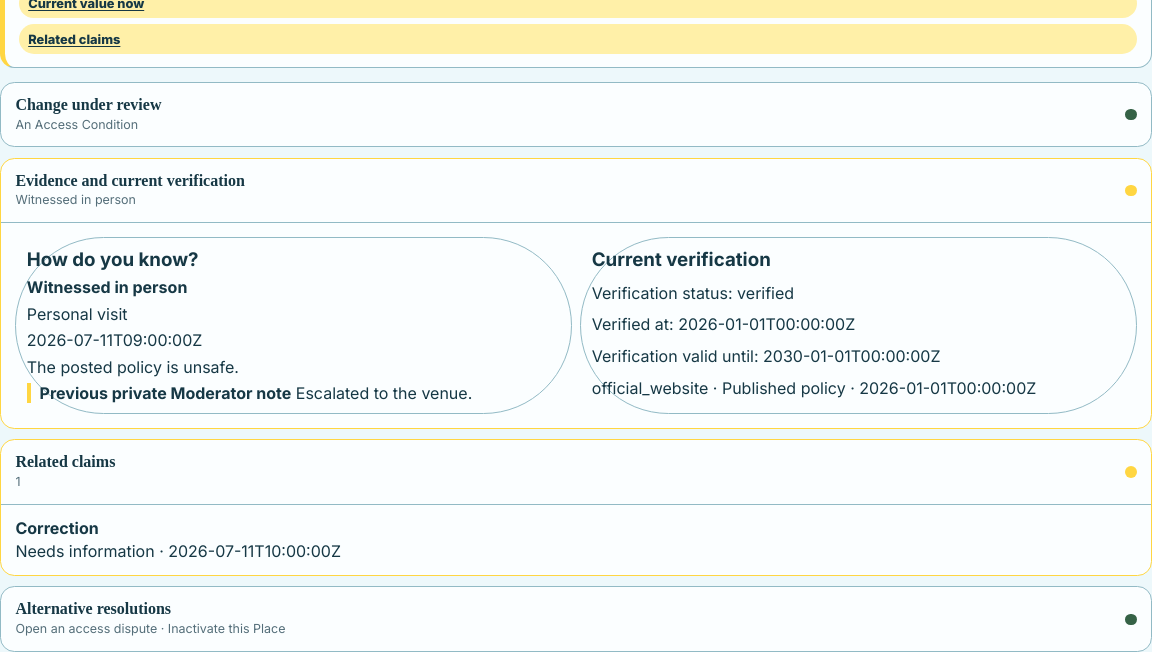
Test: CorrectionReviewPanel › saves dispute and transition details through independent section forms
(page scrolled)
Click the heading that starts with "Alternative resolutions" at coordinates (93, 609), box top-left (15, 600), bottom-right (1137, 636)
(page scrolled)
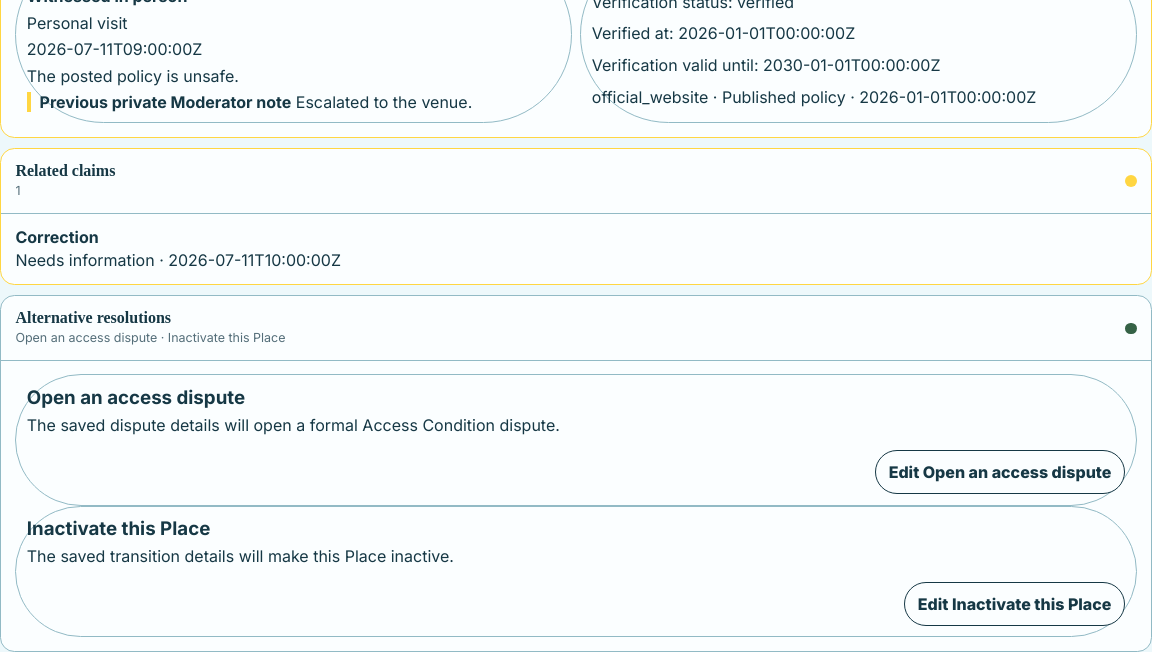
Click the button "Edit Open an access dispute" at coordinates (1000, 472), box top-left (875, 450), bottom-right (1125, 494)
(page scrolled)
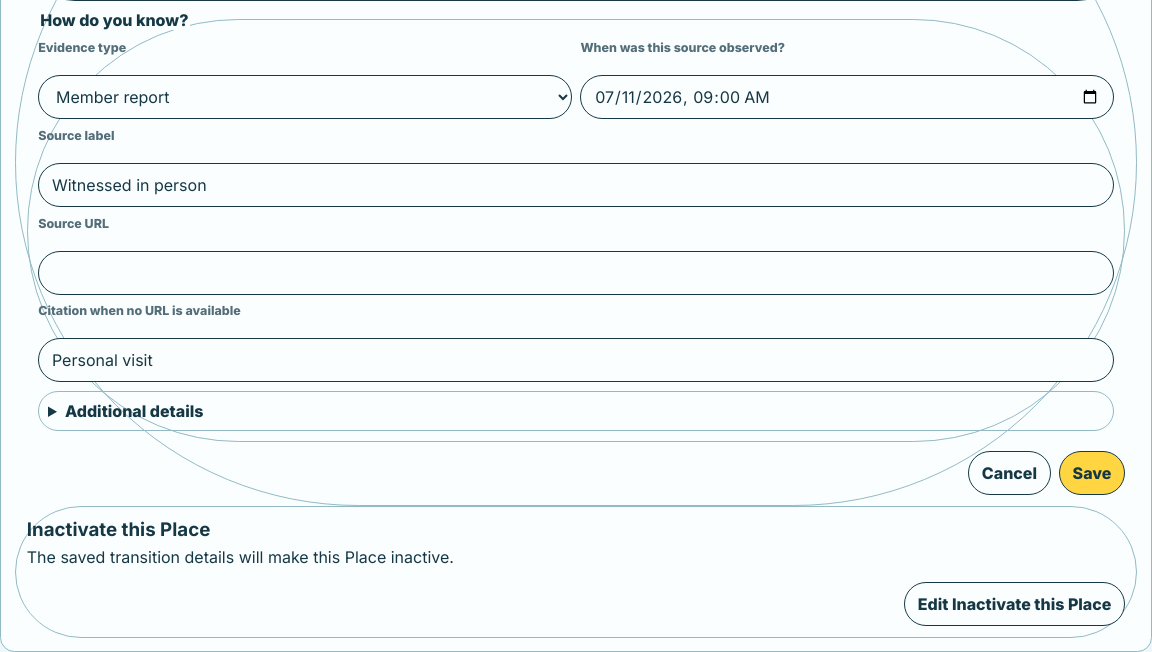
Now the field named "evidenceSourceLabel" is shown, box top-left (38, 163), bottom-right (1114, 207)
Click the button "Edit Inactivate this Place" at coordinates (1015, 604), box top-left (904, 582), bottom-right (1125, 626)
(page scrolled)
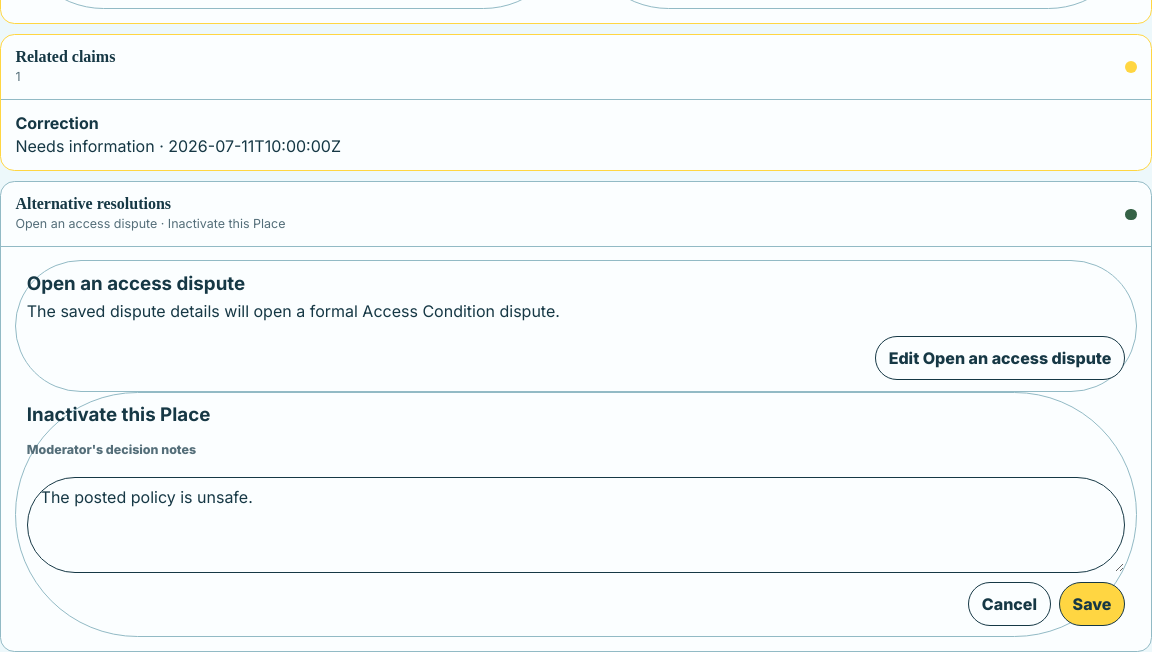
Now the form named "expectedVersion" holds "4", box top-left (27, 442), bottom-right (1125, 626)
Now the text box named "decisionNotes" is shown, box top-left (27, 477), bottom-right (1125, 573)
